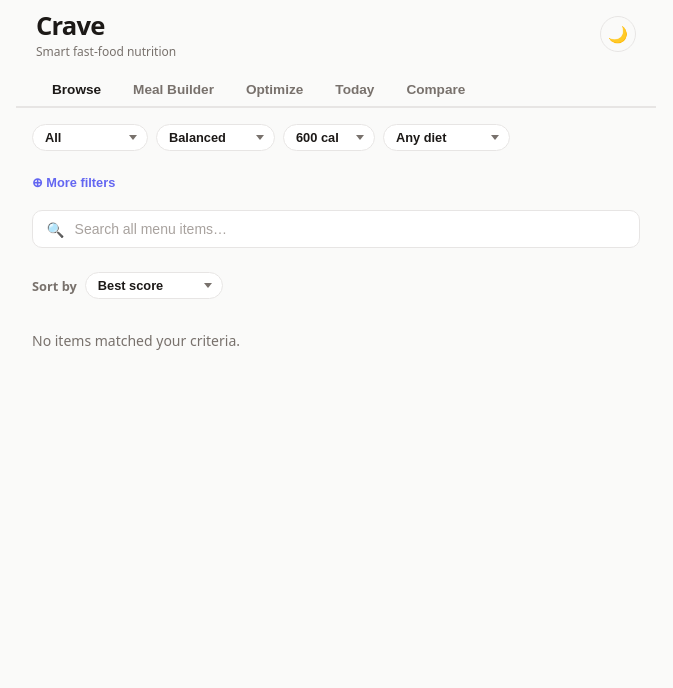
it: App — saved-meals library sync › exports the library and surfaces a code
Click the tab "Meal Builder": click(174, 90) [117,72,230,108]
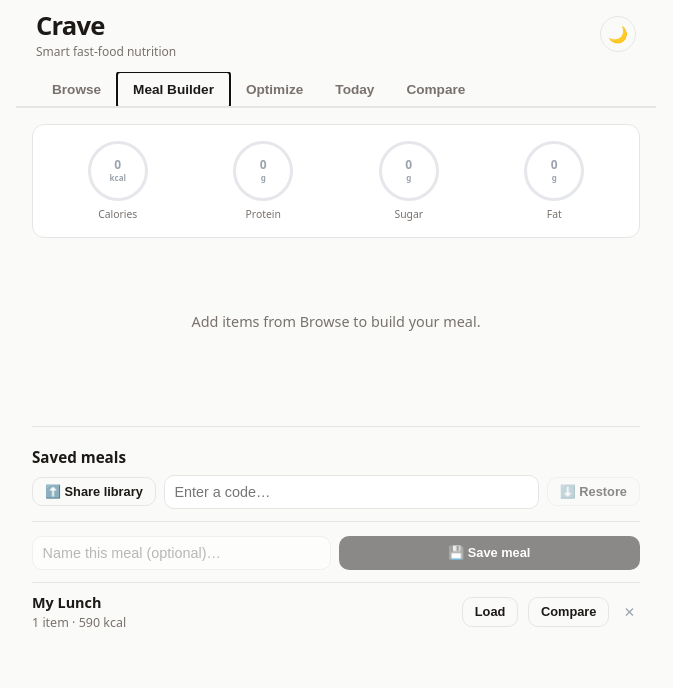
Click the button "⬆️ Share library": click(94, 492) [32,477,156,506]
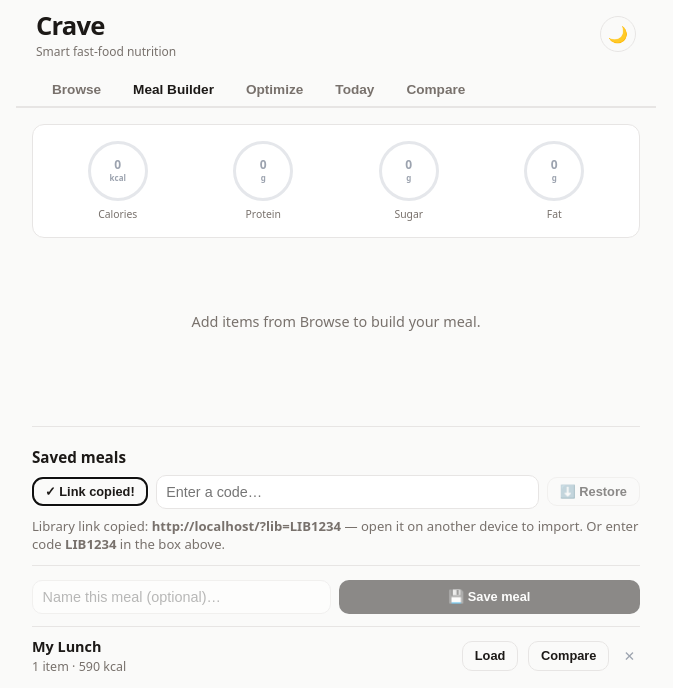
Expected: the text "Library link copied" shows "LIB1234", [290,517,341,535]
